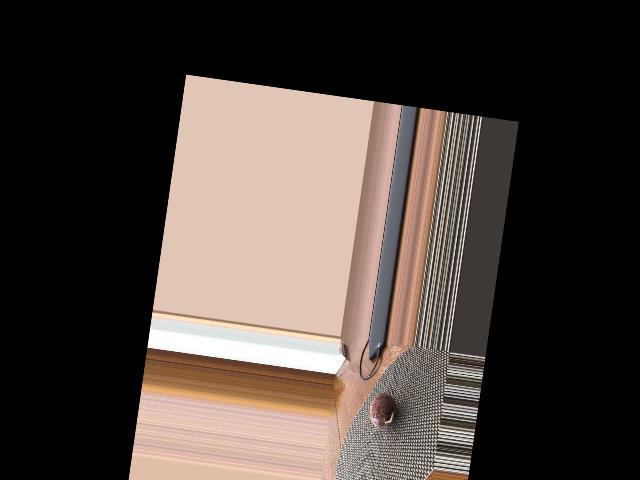beet: (367, 391, 398, 428)
